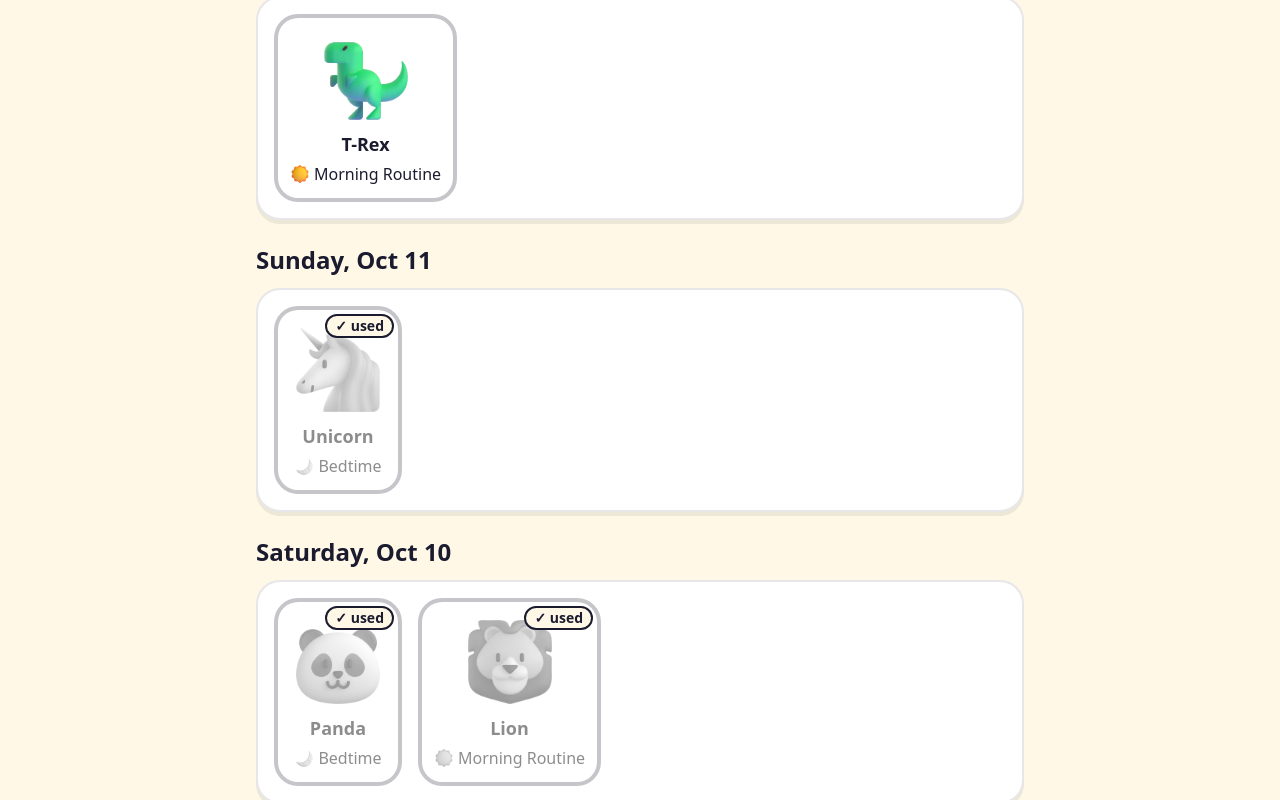
Test: StickerBookScreen › shows the prize when tapping a USED sticker
This screenshot has width=1280, height=800.
(page scrolled)
Step 1. Click the button with test id "book-sticker" → (338,400), box [274,306,402,494]
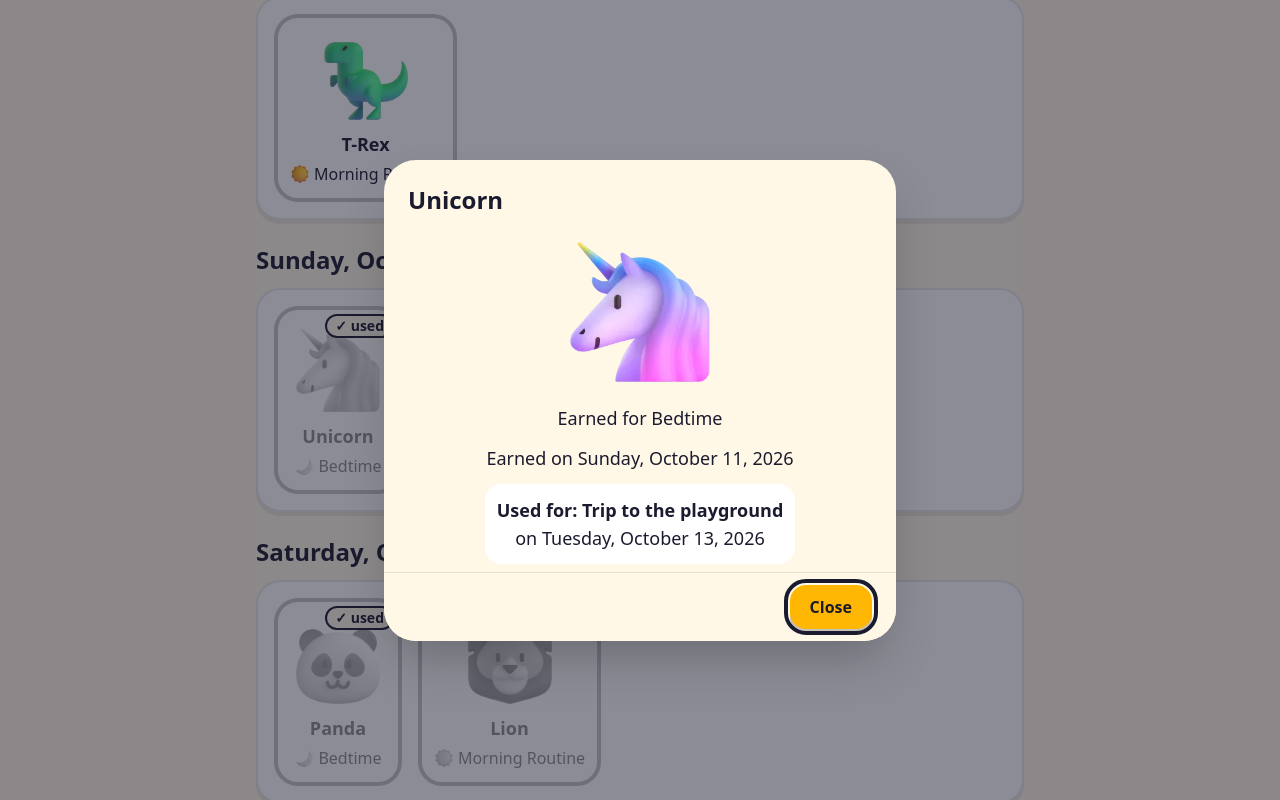
Expected: the text "Used for: Trip to the playground" is shown, [497,496,783,524]
